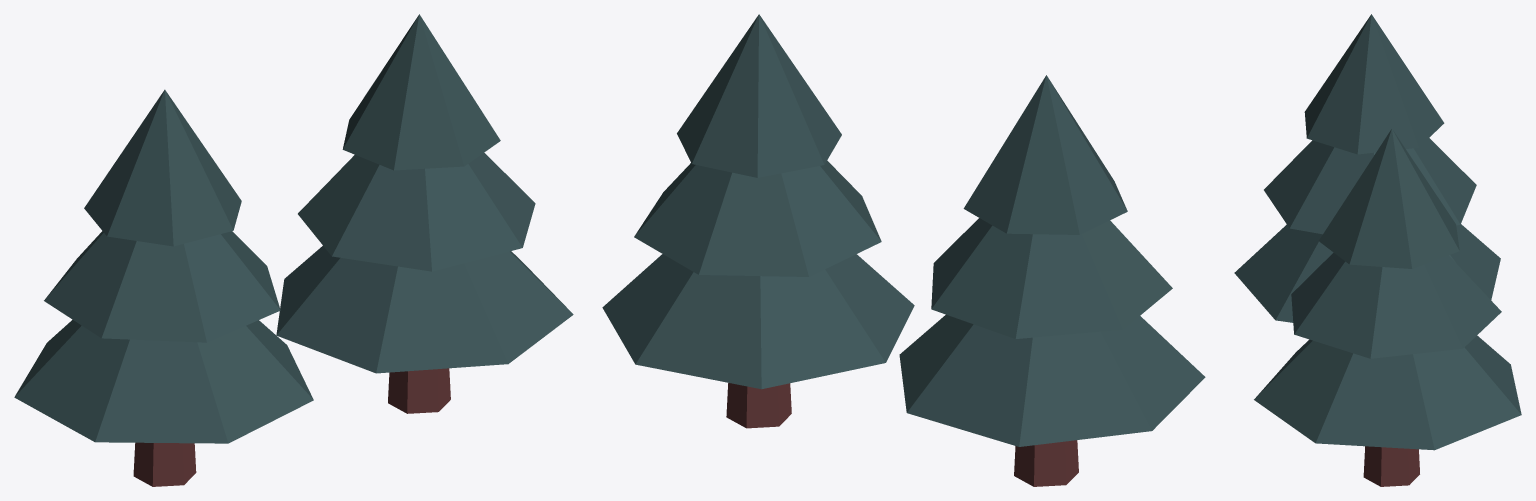
The model's file is grove4.glb.
The picture shows the model from 3 angles, left to right: view 1: azimuth 30°, elevation 25°; view 2: azimuth 150°, elevation 25°; view 3: azimuth 270°, elevation 25°; orthographic projection. The views are drawn at different scales.
Visible parts, largest first — view 1: grove4; view 2: grove4; view 3: grove4.
Boxes of the visible parts, left/top/right/bottom form: grove4: left=14, top=14, right=573, bottom=486; grove4: left=602, top=14, right=1205, bottom=486; grove4: left=1234, top=14, right=1521, bottom=486.
Size of the model in its own units: 1.17 by 0.8373 by 0.6278.
